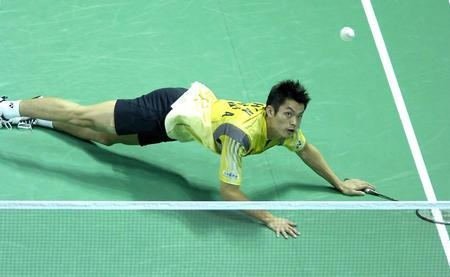falling: (14, 56, 380, 246)
